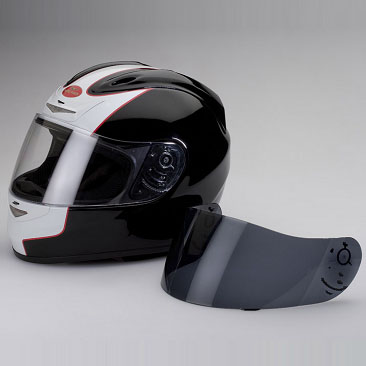helmet: (23, 66, 229, 262)
